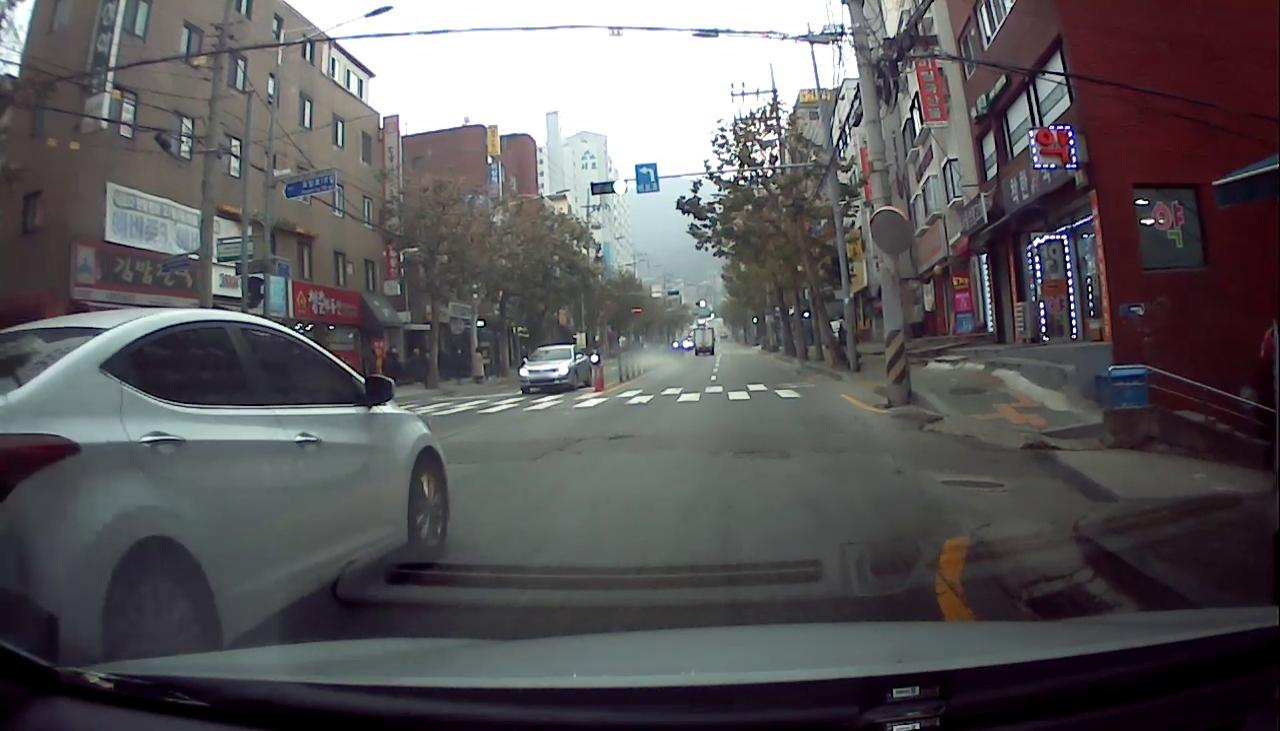Green Light: (612, 178, 628, 196)
